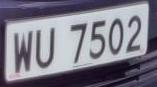0: (108, 14, 126, 60)
2: (126, 12, 144, 56)
5: (88, 15, 108, 65)
7: (67, 17, 89, 68)
U: (33, 24, 59, 74)
W: (10, 26, 36, 78)
